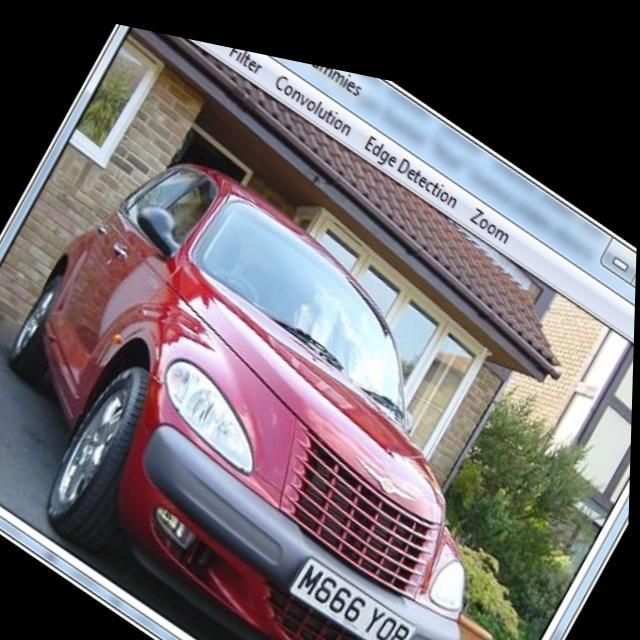license_plate: (295, 541, 419, 640)
